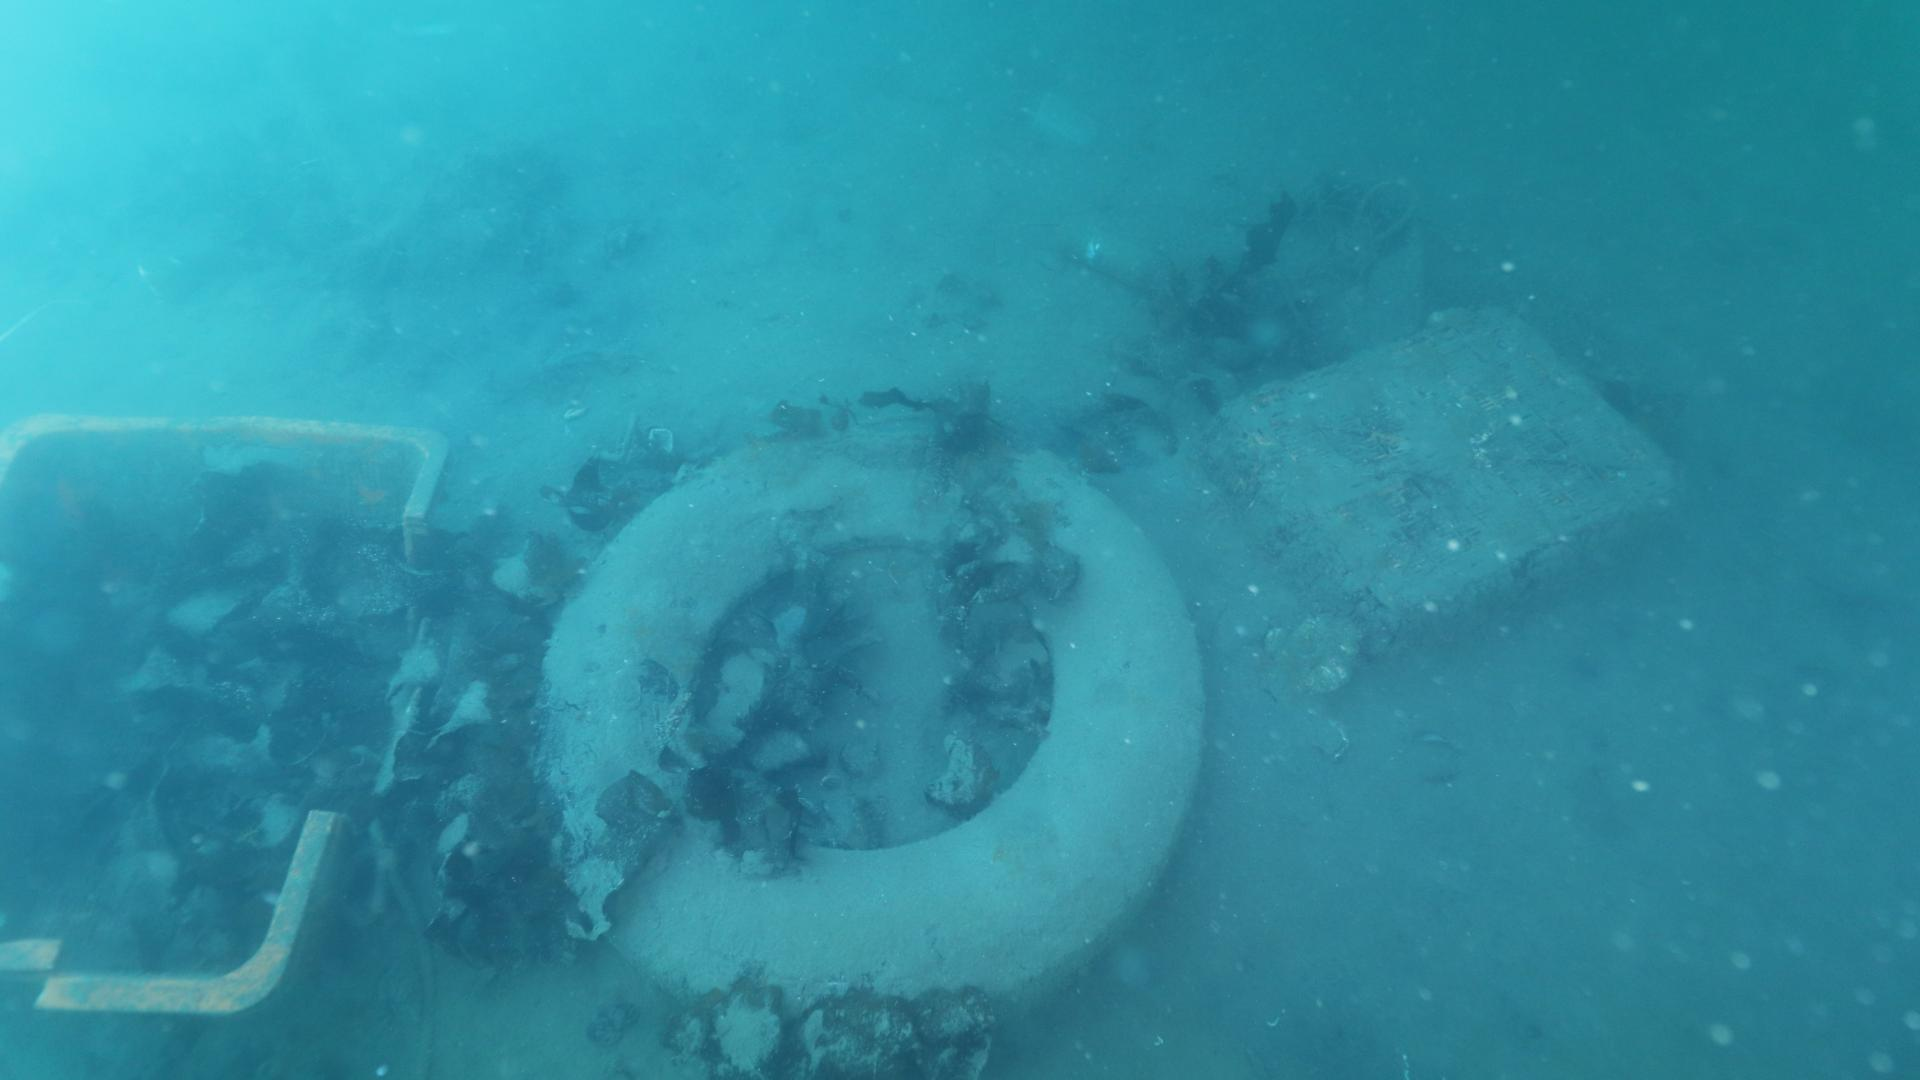tire: (535, 405, 1209, 1043)
